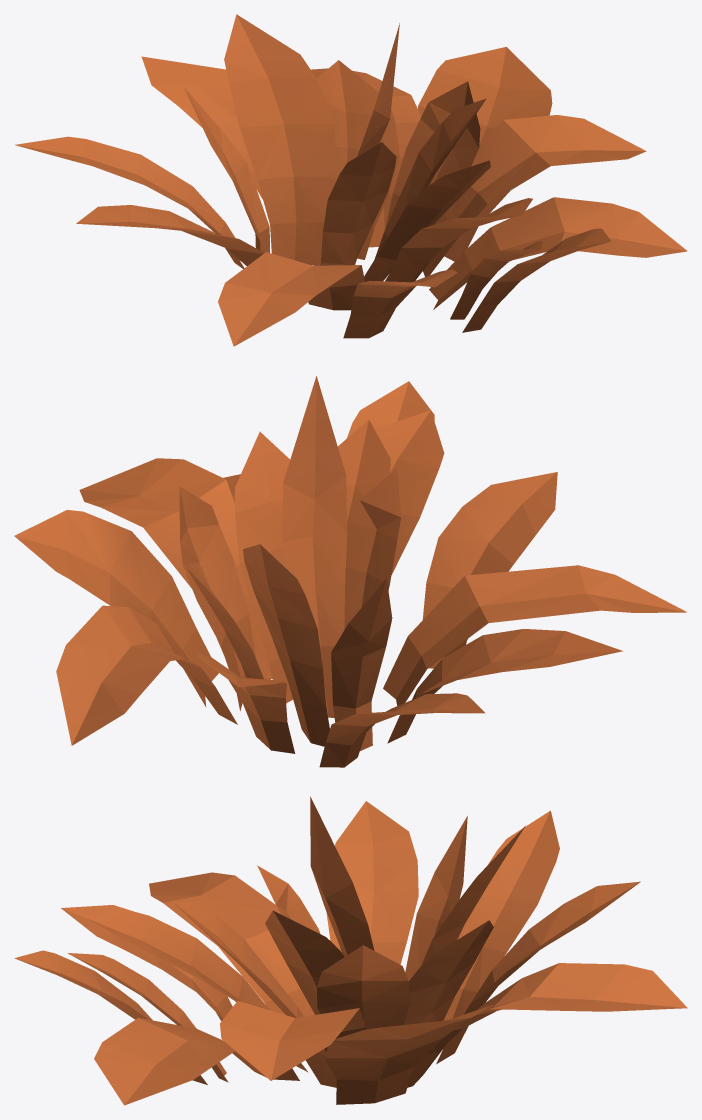
File: bush_leafy.glb
The picture shows the model from 3 angles, top to bottom: view 1: azimuth 30°, elevation 25°; view 2: azimuth 150°, elevation 25°; view 3: azimuth 270°, elevation 25°; orthographic projection. The views are drawn at different scales.
Parts seen in each view (by area): view 1: bush_leafy; view 2: bush_leafy; view 3: bush_leafy.
Boxes of the visible parts, bbox=[...] form: bush_leafy: bbox=[15, 14, 687, 346]; bush_leafy: bbox=[14, 376, 686, 767]; bush_leafy: bbox=[14, 796, 687, 1105].
Size of the model in its own units: 1.43 by 0.7 by 1.57.
1 material, 1 textured.
